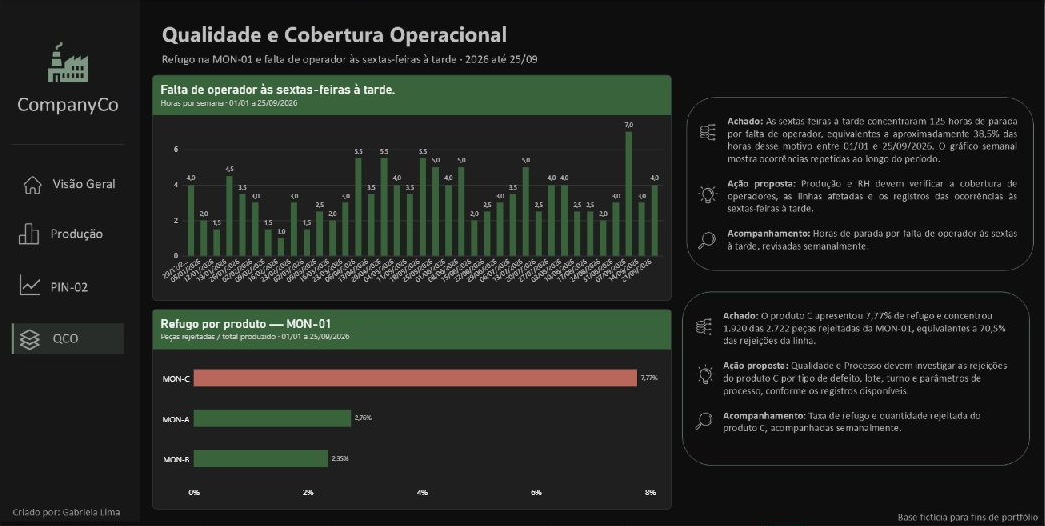

What the dashboard file says about the page in this screenshot:
{"tool":"powerbi","page":{"name":"QCO","canvas":[2140,1080],"ordinal":4},"visuals":[{"type":"columnChart","title":"Falta de operador às sextas-feiras à tarde.","fields":{"Category":["Calendario.Semana_Inicio"],"Y":["Paradas.Horas Paradas Não Planejadas"]},"box":[312,154,1064,462],"z":4000},{"type":"clusteredBarChart","title":"Refugo por produto — MON-01","fields":{"Category":["Producao.Produto"],"Y":["Calendario.% Refugo"]},"box":[312,634,1064,410],"z":4001},{"type":"actionButton","box":[0,645,282,104],"z":4002},{"type":"actionButton","box":[0,332,282,104],"z":4003},{"type":"actionButton","box":[0,436,282,104],"z":4004},{"type":"actionButton","box":[0,540,282,104],"z":4005}]}

Visuals, with their boxes on the page's 2140x1080 design canvas (x1, y1, x2, y2). These are canvas units, not pixel positions in the 1045x526 screenshot, which may show the page scaled, cropped or inside an application window:
"Falta de operador às sextas-feiras à tarde." columnChart: Rect(312, 154, 1376, 616)
"Refugo por produto — MON-01" clusteredBarChart: Rect(312, 634, 1376, 1044)
actionButton: Rect(0, 645, 282, 749)
actionButton: Rect(0, 332, 282, 436)
actionButton: Rect(0, 436, 282, 540)
actionButton: Rect(0, 540, 282, 644)
